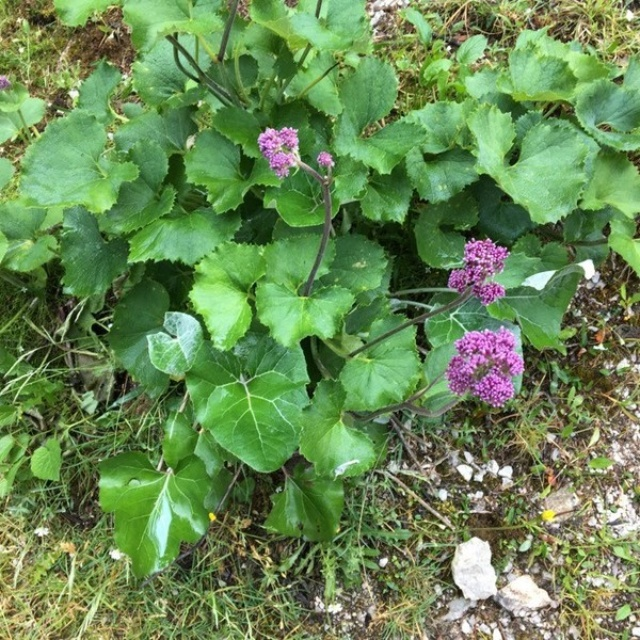obstacle: (45, 27, 549, 523)
